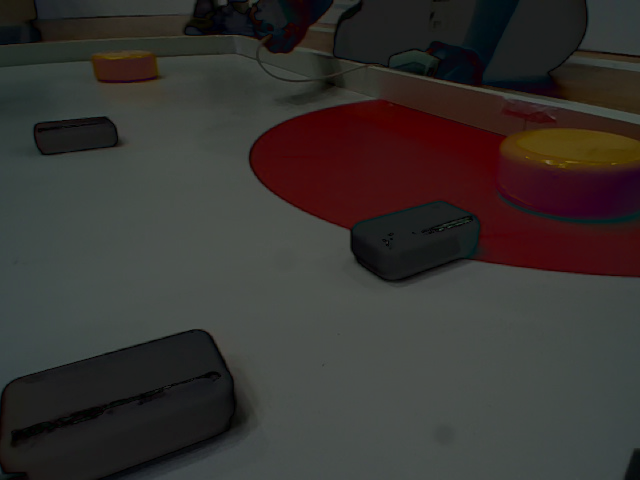black: (1, 329, 253, 462), (353, 195, 483, 273), (23, 117, 118, 156)
yellow: (497, 122, 640, 232), (89, 51, 164, 81)
